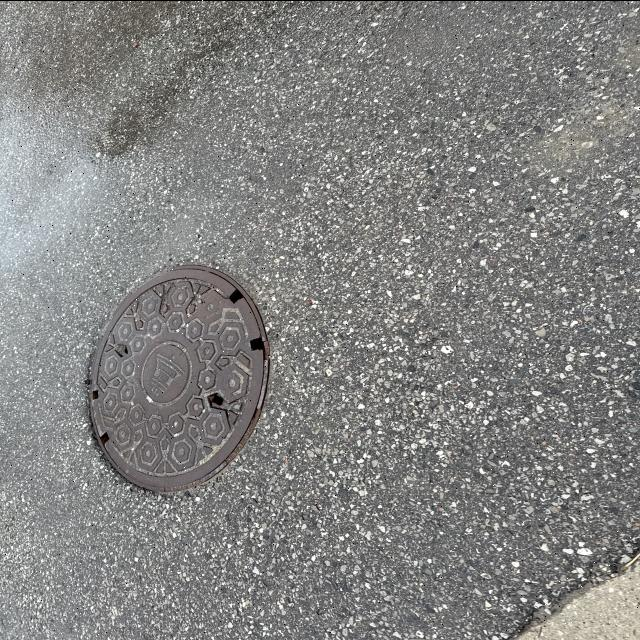Manhole: (83, 260, 266, 493)
